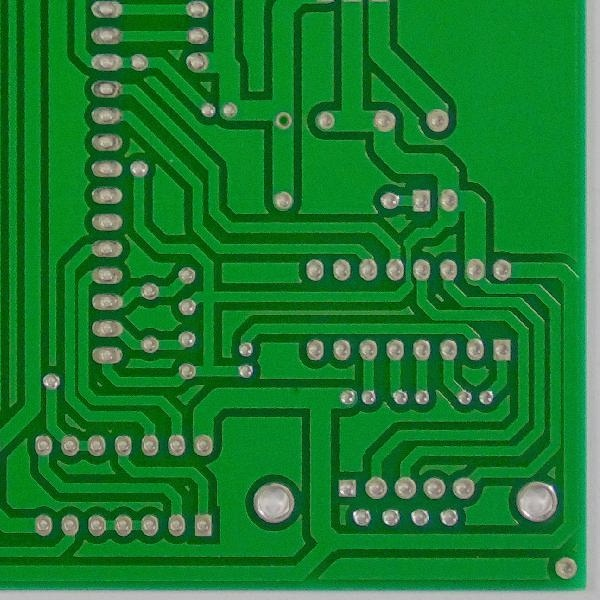missing_hole: (274, 108, 295, 133)
